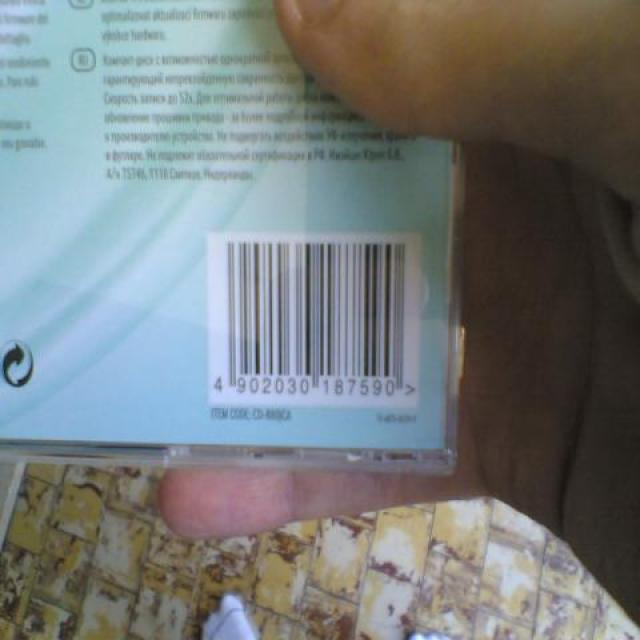Barcode: (207, 231, 422, 406)
